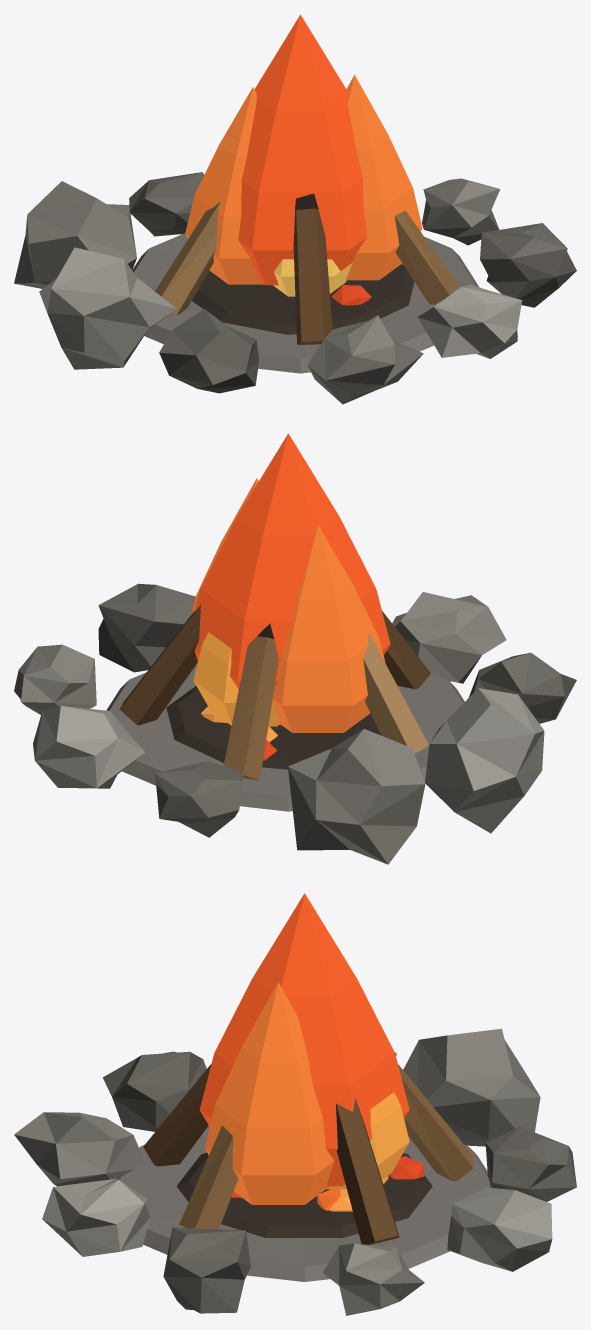
File: feu.glb
3 views of the same model, one above another, from view 1: azimuth 30°, elevation 25°; view 2: azimuth 150°, elevation 25°; view 3: azimuth 270°, elevation 25° (orthographic). The views are drawn at different scales.
Bounding box in the file's own units: 1.09 × 0.7001 × 1.04.
